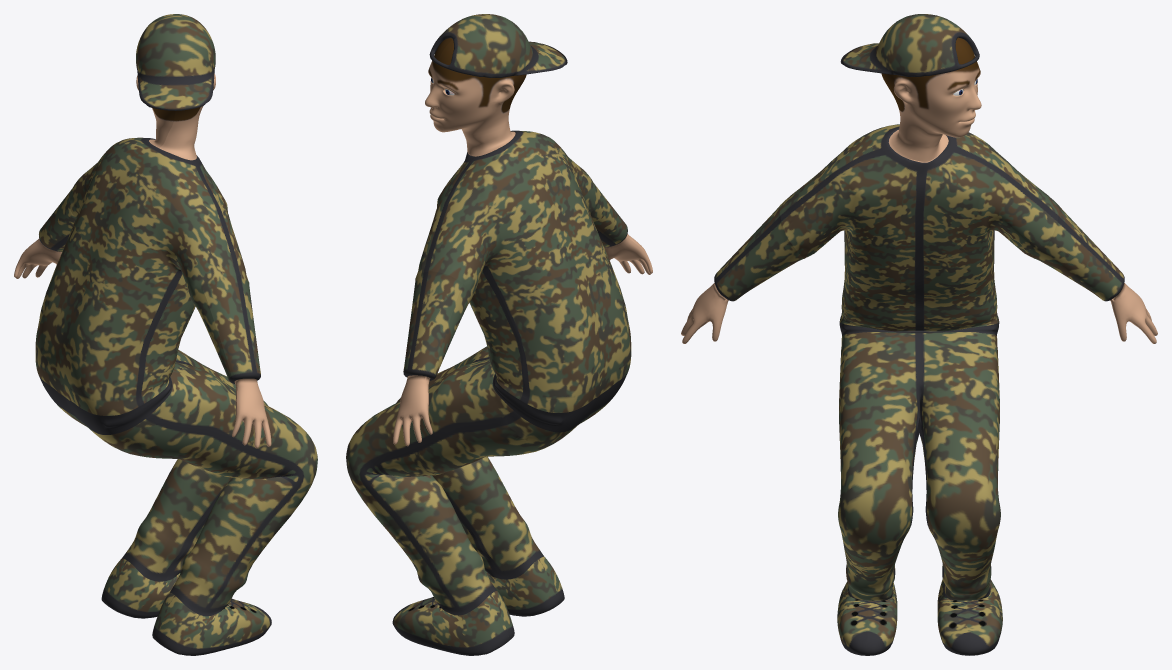
The model's file is SkinCamuflaje_PoseSalto.fbx.
3 renders of one model, left to right at view 1: azimuth 30°, elevation 25°; view 2: azimuth 150°, elevation 25°; view 3: azimuth 270°, elevation 25°, orthographic.
Visible parts, largest first — view 1: Cuerpo completo smooth.003; view 2: Cuerpo completo smooth.003; view 3: Cuerpo completo smooth.003.
Part boxes in pixels (box(x1,y1,x2,y2)): Cuerpo completo smooth.003: box(14, 14, 317, 655); Cuerpo completo smooth.003: box(346, 14, 652, 655); Cuerpo completo smooth.003: box(681, 14, 1157, 655).
Bounding box in the file's own units: 55.44 × 138 × 97.79.
Materials: 1 (1 with a texture image).
